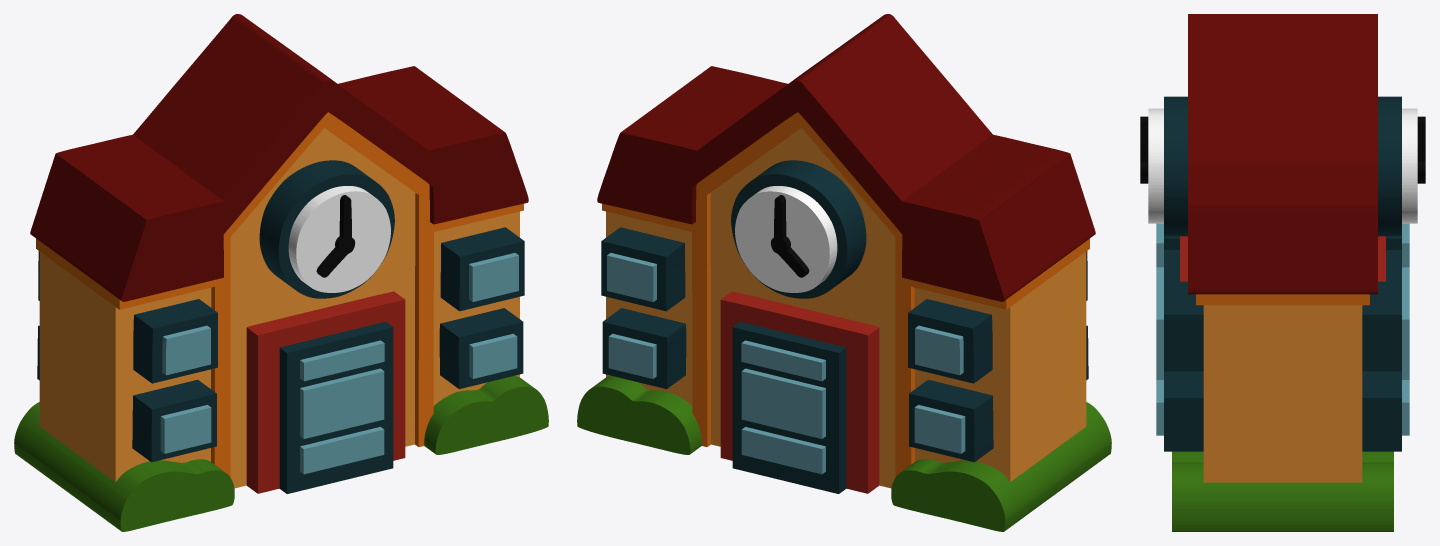
The picture shows the model from 3 angles, left to right: view 1: azimuth 30°, elevation 25°; view 2: azimuth 150°, elevation 25°; view 3: azimuth 270°, elevation 25°; orthographic projection. The views are drawn at different scales.
Visible parts, largest first — view 1: U+1F3EB_layer02_obj00, U+1F3EB_layer00_obj00, U+1F3EB_layer01_obj00, U+1F3EB_layer04_obj00, U+1F3EB_layer03_obj00, U+1F3EB_layer05_obj01, U+1F3EB_layer07_obj00, U+1F3EB_layer04_obj01, U+1F3EB_layer05_obj06, U+1F3EB_layer06_obj01, U+1F3EB_layer05_obj04, U+1F3EB_layer05_obj05 (+9 smaller); view 2: U+1F3EB_layer02_obj00, U+1F3EB_layer00_obj00, U+1F3EB_layer01_obj00, U+1F3EB_layer04_obj00, U+1F3EB_layer03_obj00, U+1F3EB_layer05_obj01, U+1F3EB_layer07_obj00, U+1F3EB_layer04_obj01, U+1F3EB_layer05_obj06, U+1F3EB_layer06_obj01, U+1F3EB_layer05_obj04, U+1F3EB_layer05_obj05 (+9 smaller); view 3: U+1F3EB_layer02_obj00, U+1F3EB_layer00_obj00, U+1F3EB_layer04_obj01, U+1F3EB_layer05_obj06, U+1F3EB_layer05_obj00, U+1F3EB_layer05_obj02, U+1F3EB_layer07_obj00, U+1F3EB_layer01_obj00, U+1F3EB_layer08_obj00, U+1F3EB_layer05_obj01, U+1F3EB_layer06_obj02, U+1F3EB_layer06_obj00 (+5 smaller).
Boxes of the visible parts, box(x1,y1,x2,y2) form: U+1F3EB_layer02_obj00: box(30, 14, 528, 301); U+1F3EB_layer00_obj00: box(39, 128, 519, 488); U+1F3EB_layer01_obj00: box(36, 112, 523, 477); U+1F3EB_layer04_obj00: box(14, 402, 234, 531); U+1F3EB_layer03_obj00: box(246, 291, 405, 493); U+1F3EB_layer05_obj01: box(279, 321, 393, 493); U+1F3EB_layer07_obj00: box(288, 186, 390, 292); U+1F3EB_layer04_obj01: box(424, 376, 548, 454); U+1F3EB_layer05_obj06: box(259, 160, 394, 298); U+1F3EB_layer06_obj01: box(300, 368, 384, 438); U+1F3EB_layer05_obj04: box(38, 251, 217, 383); U+1F3EB_layer05_obj05: box(37, 325, 216, 462); U+1F3EB_layer02_obj00: box(597, 14, 1095, 301); U+1F3EB_layer00_obj00: box(606, 128, 1086, 488); U+1F3EB_layer01_obj00: box(602, 112, 1089, 477); U+1F3EB_layer04_obj00: box(891, 402, 1111, 531); U+1F3EB_layer03_obj00: box(720, 291, 879, 493); U+1F3EB_layer05_obj01: box(732, 321, 846, 493); U+1F3EB_layer07_obj00: box(735, 186, 837, 292); U+1F3EB_layer04_obj01: box(577, 376, 701, 454); U+1F3EB_layer05_obj06: box(731, 160, 866, 298); U+1F3EB_layer06_obj01: box(741, 368, 825, 438); U+1F3EB_layer05_obj04: box(908, 251, 1087, 383); U+1F3EB_layer05_obj05: box(909, 325, 1088, 462); U+1F3EB_layer02_obj00: box(1188, 14, 1377, 294); U+1F3EB_layer00_obj00: box(1203, 305, 1362, 482); U+1F3EB_layer04_obj01: box(1172, 451, 1393, 531); U+1F3EB_layer05_obj06: box(1164, 96, 1401, 236); U+1F3EB_layer05_obj00: box(1164, 281, 1401, 371); U+1F3EB_layer05_obj02: box(1164, 371, 1401, 451); U+1F3EB_layer07_obj00: box(1148, 108, 1417, 223); U+1F3EB_layer01_obj00: box(1196, 294, 1369, 305); U+1F3EB_layer08_obj00: box(1140, 116, 1425, 183); U+1F3EB_layer05_obj01: box(1164, 250, 1401, 281); U+1F3EB_layer06_obj02: box(1156, 296, 1409, 356); U+1F3EB_layer06_obj00: box(1156, 380, 1409, 435).
Bounding box in the file's own units: 0.3253 × 0.2866 × 0.18.
